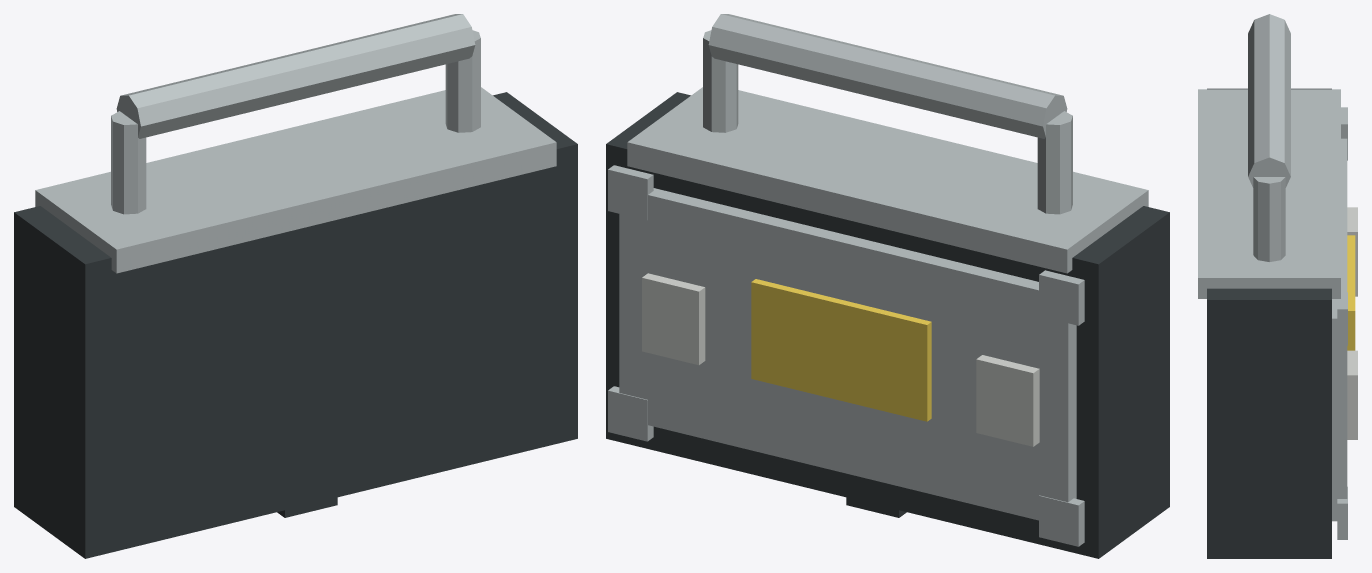
File: HomebaseBriefcase_LOD00.gltf
The picture shows the model from 3 angles, left to right: view 1: azimuth 30°, elevation 25°; view 2: azimuth 150°, elevation 25°; view 3: azimuth 270°, elevation 25°; orthographic projection. The views are drawn at different scales.
Visible parts, largest first — view 1: HomebaseBriefcase_node; view 2: HomebaseBriefcase_node; view 3: HomebaseBriefcase_node.
Part boxes in pixels (x1=…): HomebaseBriefcase_node: x1=14, y1=14, x2=577, y2=558; HomebaseBriefcase_node: x1=606, y1=14, x2=1169, y2=558; HomebaseBriefcase_node: x1=1198, y1=14, x2=1357, y2=558.
Size of the model in its own units: 0.56 by 0.484 by 0.179.
